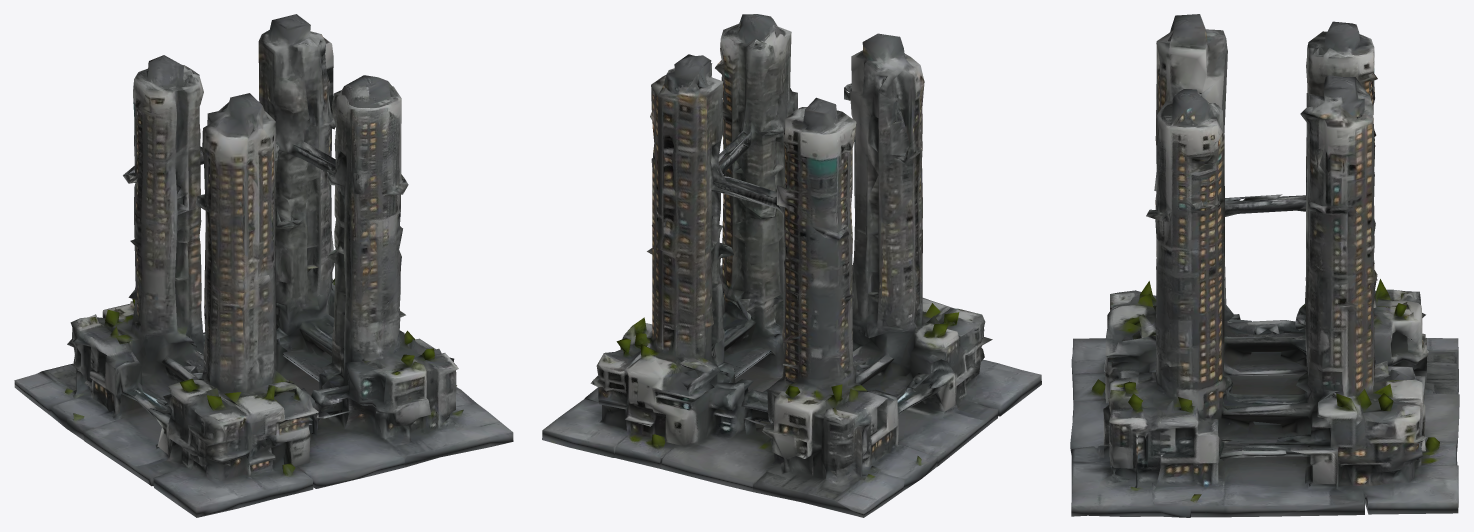
File: habitat.glb
3 renders of one model, left to right at view 1: azimuth 30°, elevation 25°; view 2: azimuth 150°, elevation 25°; view 3: azimuth 270°, elevation 25°, orthographic. The views are drawn at different scales.
Visible parts, largest first — view 1: tripo_node_122b3110-5600-45d9-9104-e57dfc8852ce; view 2: tripo_node_122b3110-5600-45d9-9104-e57dfc8852ce; view 3: tripo_node_122b3110-5600-45d9-9104-e57dfc8852ce.
Part boxes in pixels (x1,y1,x2,y2): tripo_node_122b3110-5600-45d9-9104-e57dfc8852ce: [14, 14, 513, 517]; tripo_node_122b3110-5600-45d9-9104-e57dfc8852ce: [542, 14, 1041, 517]; tripo_node_122b3110-5600-45d9-9104-e57dfc8852ce: [1070, 14, 1459, 517].
Size of the model in its own units: 0.9562 by 1 by 0.9111.
1 material, 1 textured.
